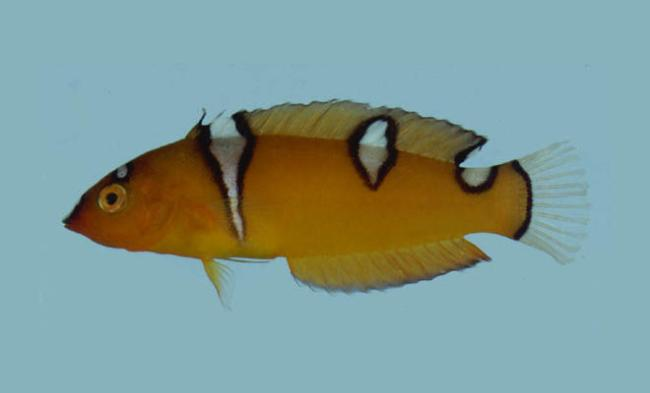fish: (62, 99, 589, 312)
